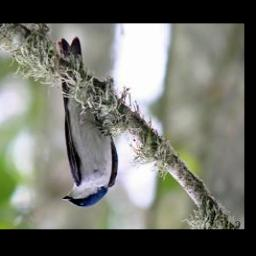Swallow: (54, 35, 119, 210)
